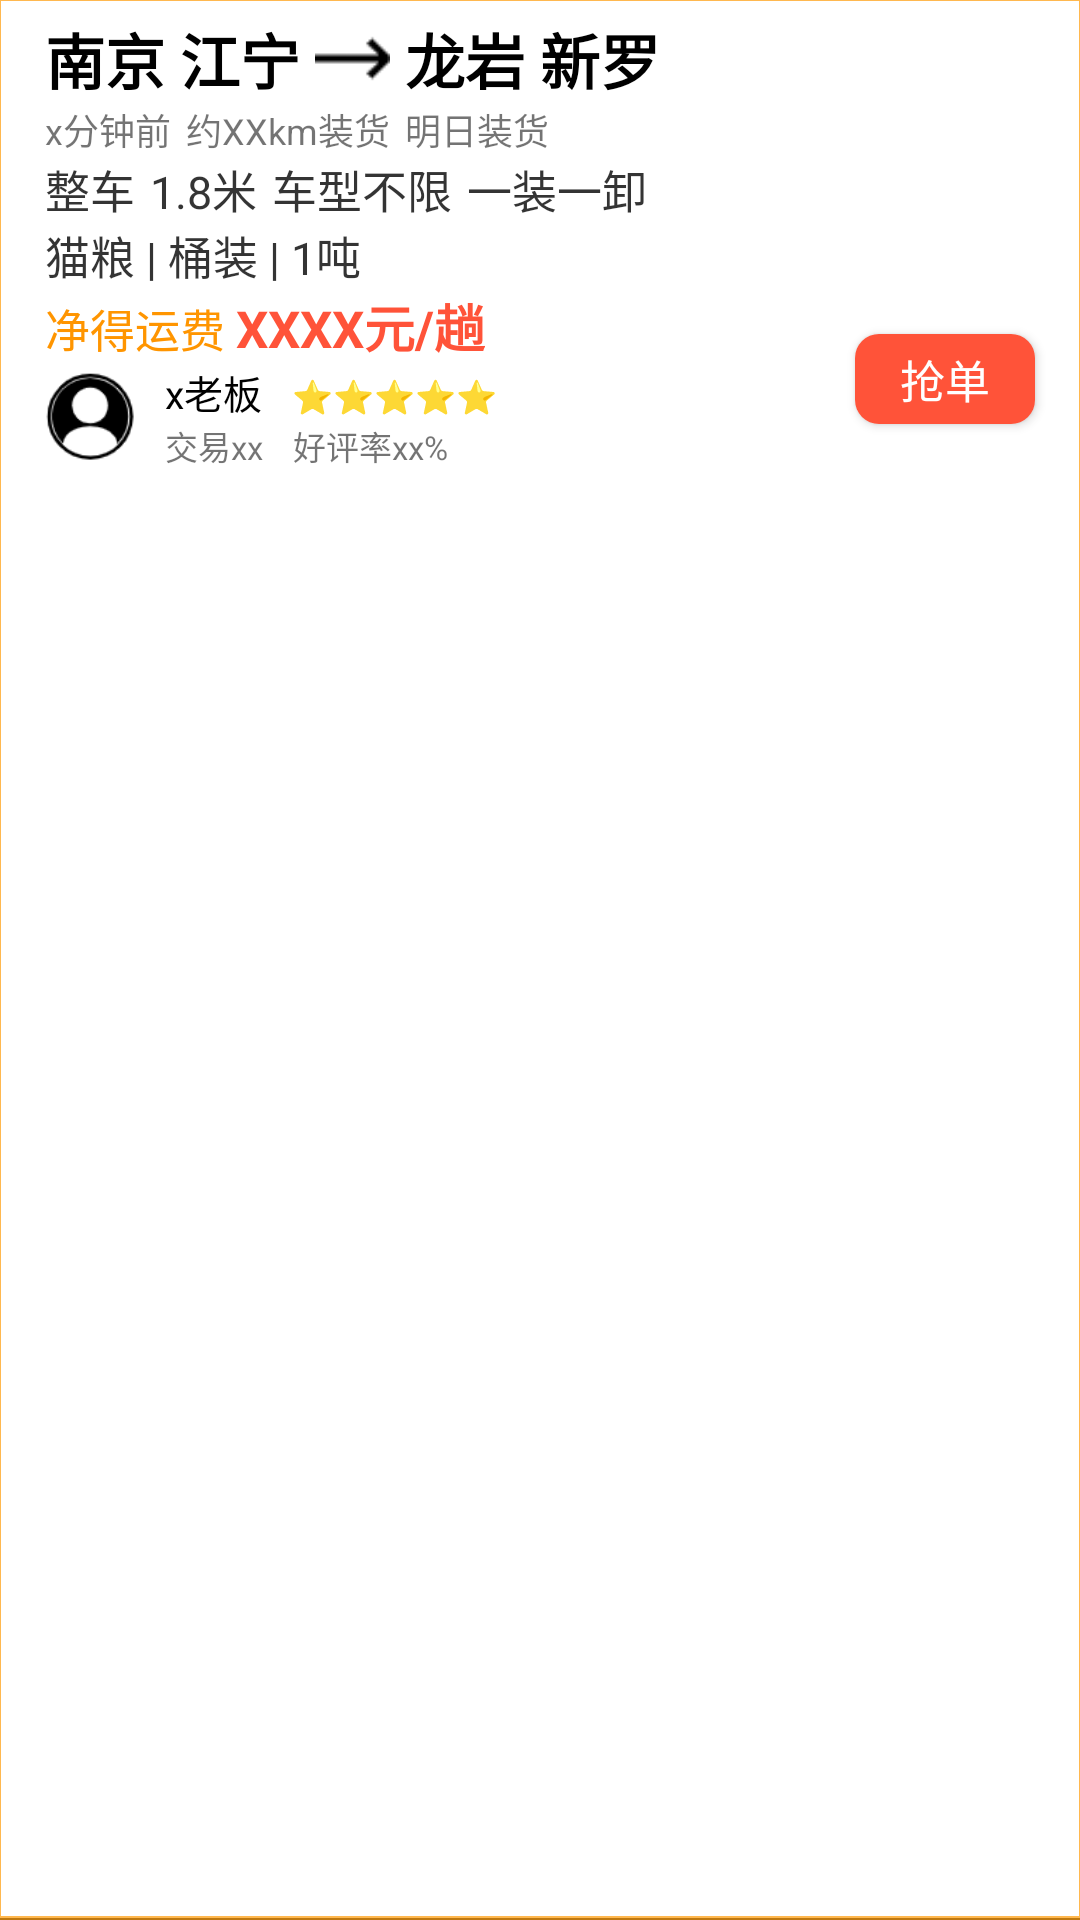

Where icons sit on this 1080w x 1920h app screen, as box=[x1, y1, x2, y2]:
arrow: box=[315, 37, 390, 80]
user: box=[46, 373, 134, 460]
